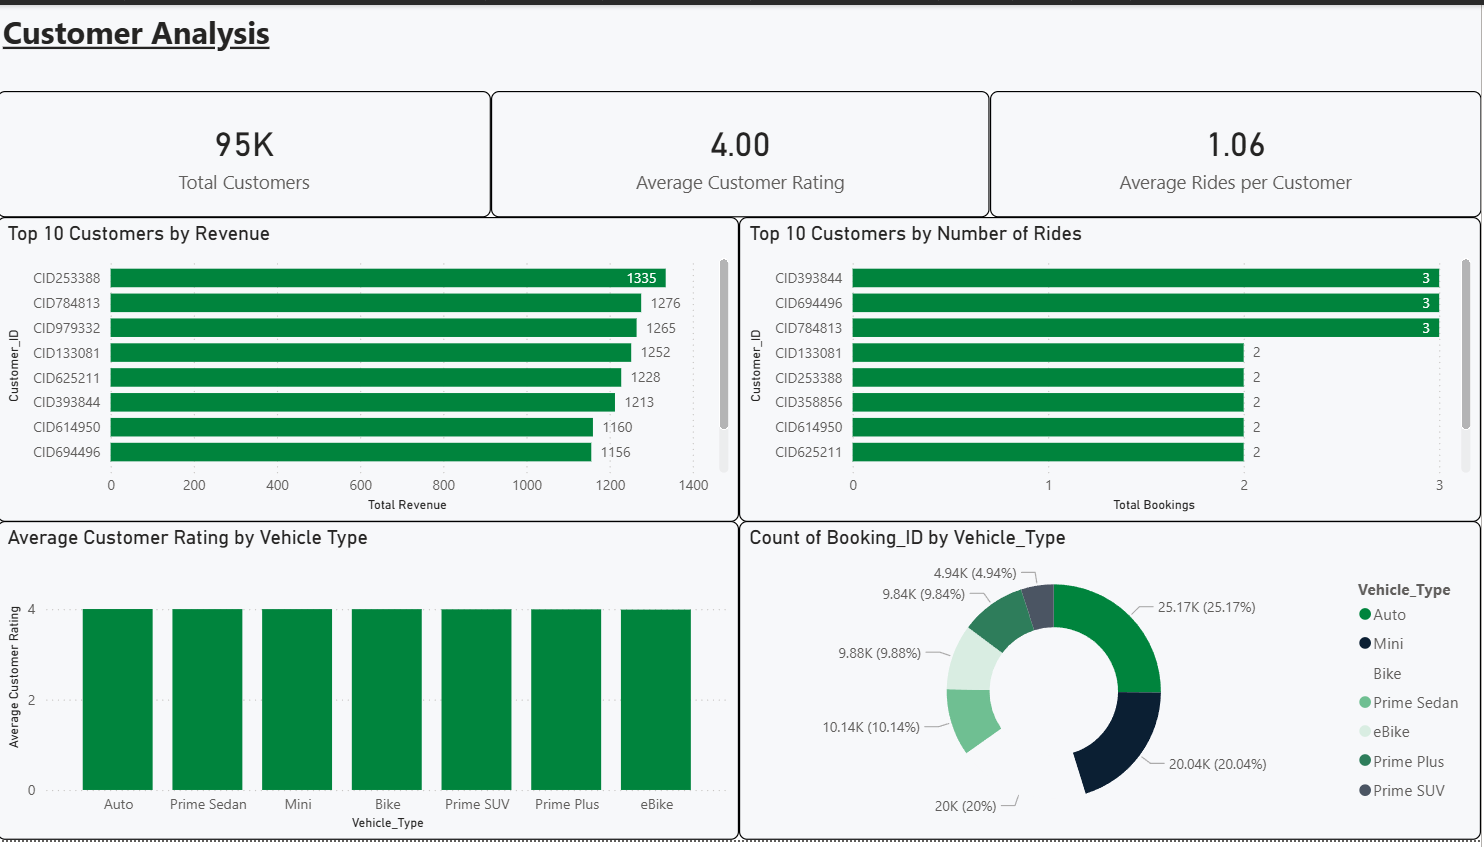

This screenshot's page, from the dashboard's own definition file:
{"tool":"powerbi","page":{"name":"Customer Analysis","canvas":[1280,720],"ordinal":3},"visuals":[{"type":"card","fields":{"Values":["bookings.Total Customers"]},"box":[0,73.8,426.2,108.8],"z":0},{"type":"card","fields":{"Values":["bookings.Average Customer Rating"]},"box":[426.2,73.8,430,108.8],"z":1000},{"type":"card","fields":{"Values":["bookings.Average Rides per Customer"]},"box":[856.2,73.8,423.8,108.8],"z":2000},{"type":"barChart","title":"Top 10 Customers by Revenue","fields":{"Category":["bookings.Customer_ID"],"Y":["bookings.Total Revenue"]},"box":[0,182.5,640,262.5],"z":3000},{"type":"barChart","title":"Top 10 Customers by Number of Rides","fields":{"Category":["bookings.Customer_ID"],"Y":["bookings.Total Bookings"]},"box":[640,182.5,640,262.5],"z":4000},{"type":"columnChart","title":"Average Customer Rating by Vehicle Type","fields":{"Category":["bookings.Vehicle_Type"],"Y":["bookings.Average Customer Rating"]},"box":[0,445,640,275],"z":5000},{"type":"donutChart","fields":{"Category":["bookings.Vehicle_Type"],"Y":["CountNonNull(bookings.Booking_ID)"]},"box":[640,445,640,275],"z":6000},{"type":"textbox","box":[0,0,1280,73.8],"z":7000}]}

Visuals, with their boxes in screenshot pixels (x1, y1, x2, y2), scaled from the page's 1280x720 canvas onto the 1484x847 screenshot:
card - bookings.Total Customers: [0, 87, 494, 215]
card - bookings.Average Customer Rating: [494, 87, 993, 215]
card - bookings.Average Rides per Customer: [993, 87, 1483, 215]
"Top 10 Customers by Revenue" barChart: [0, 215, 742, 523]
"Top 10 Customers by Number of Rides" barChart: [742, 215, 1483, 523]
"Average Customer Rating by Vehicle Type" columnChart: [0, 523, 742, 846]
donutChart - bookings.Vehicle_Type x CountNonNull(bookings.Booking_ID): [742, 523, 1483, 846]
textbox: [0, 0, 1483, 87]
